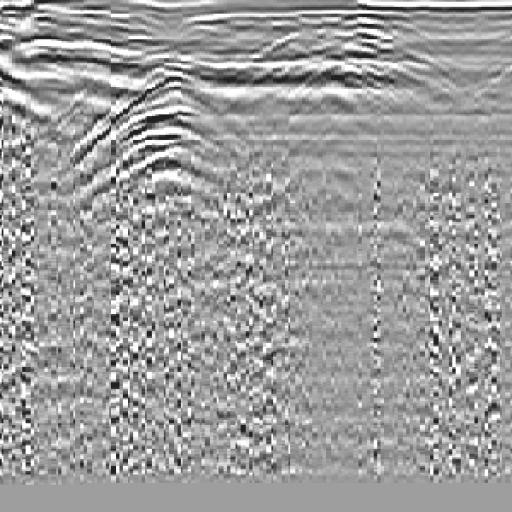metalic: (75, 35, 265, 249)
